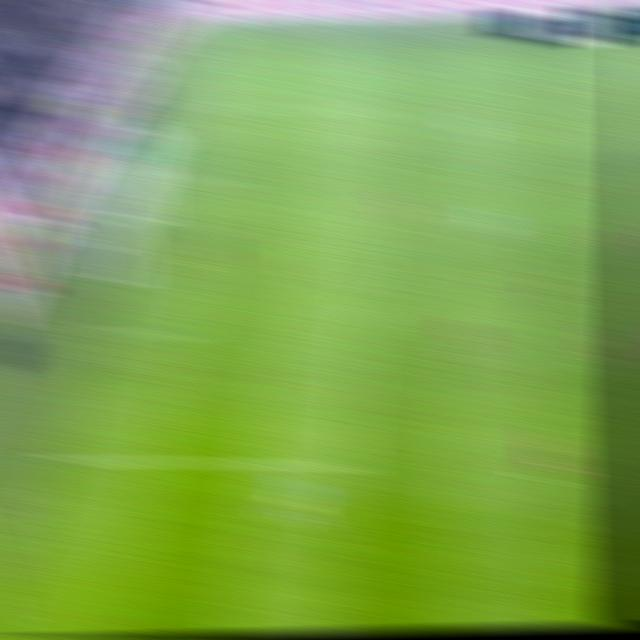bigarea_bottom_inner: (331, 454, 366, 472)
bigarea_bottom_outter: (46, 450, 79, 468)
bigarea_top_inner: (362, 100, 394, 120)
bigarea_top_outter: (174, 99, 204, 114)
bottom_arc_area_intersection: (347, 308, 378, 328)
corner: (199, 28, 234, 40)
smallarea_bottom_inner: (174, 321, 209, 341)
smallarea_bottom_outter: (92, 320, 126, 341)
smallarea_top_inner: (215, 169, 247, 188)
smallarea_top_outter: (148, 169, 180, 184)
top_arc_area_intersection: (355, 185, 388, 204)
